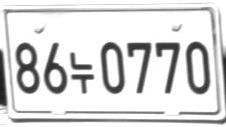0: (100, 41, 126, 94), (185, 41, 211, 94)
6: (42, 42, 68, 94)
7: (154, 41, 181, 94), (126, 41, 152, 93)
8: (15, 41, 40, 94)
누: (69, 52, 94, 94)
